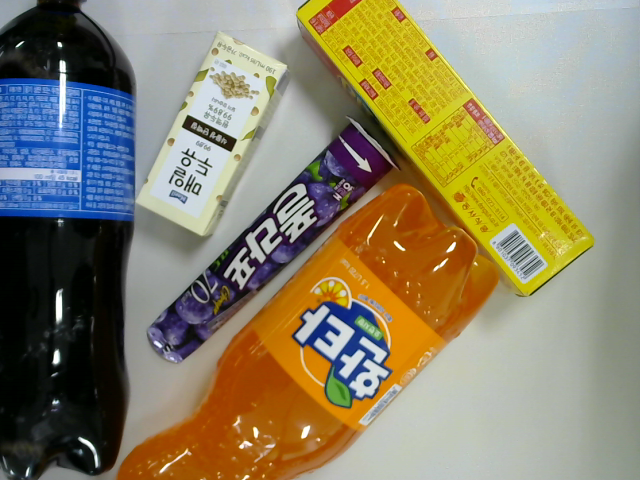99.89_Soymilk: (127, 31, 293, 237)
Hwanta_Orange_1.5L: (111, 183, 502, 480)
Pepsi_Cola_1.5L: (1, 1, 141, 480)
Polapo_Grape: (141, 114, 400, 372)
Ritz_Remon_96g: (291, 1, 600, 306)
